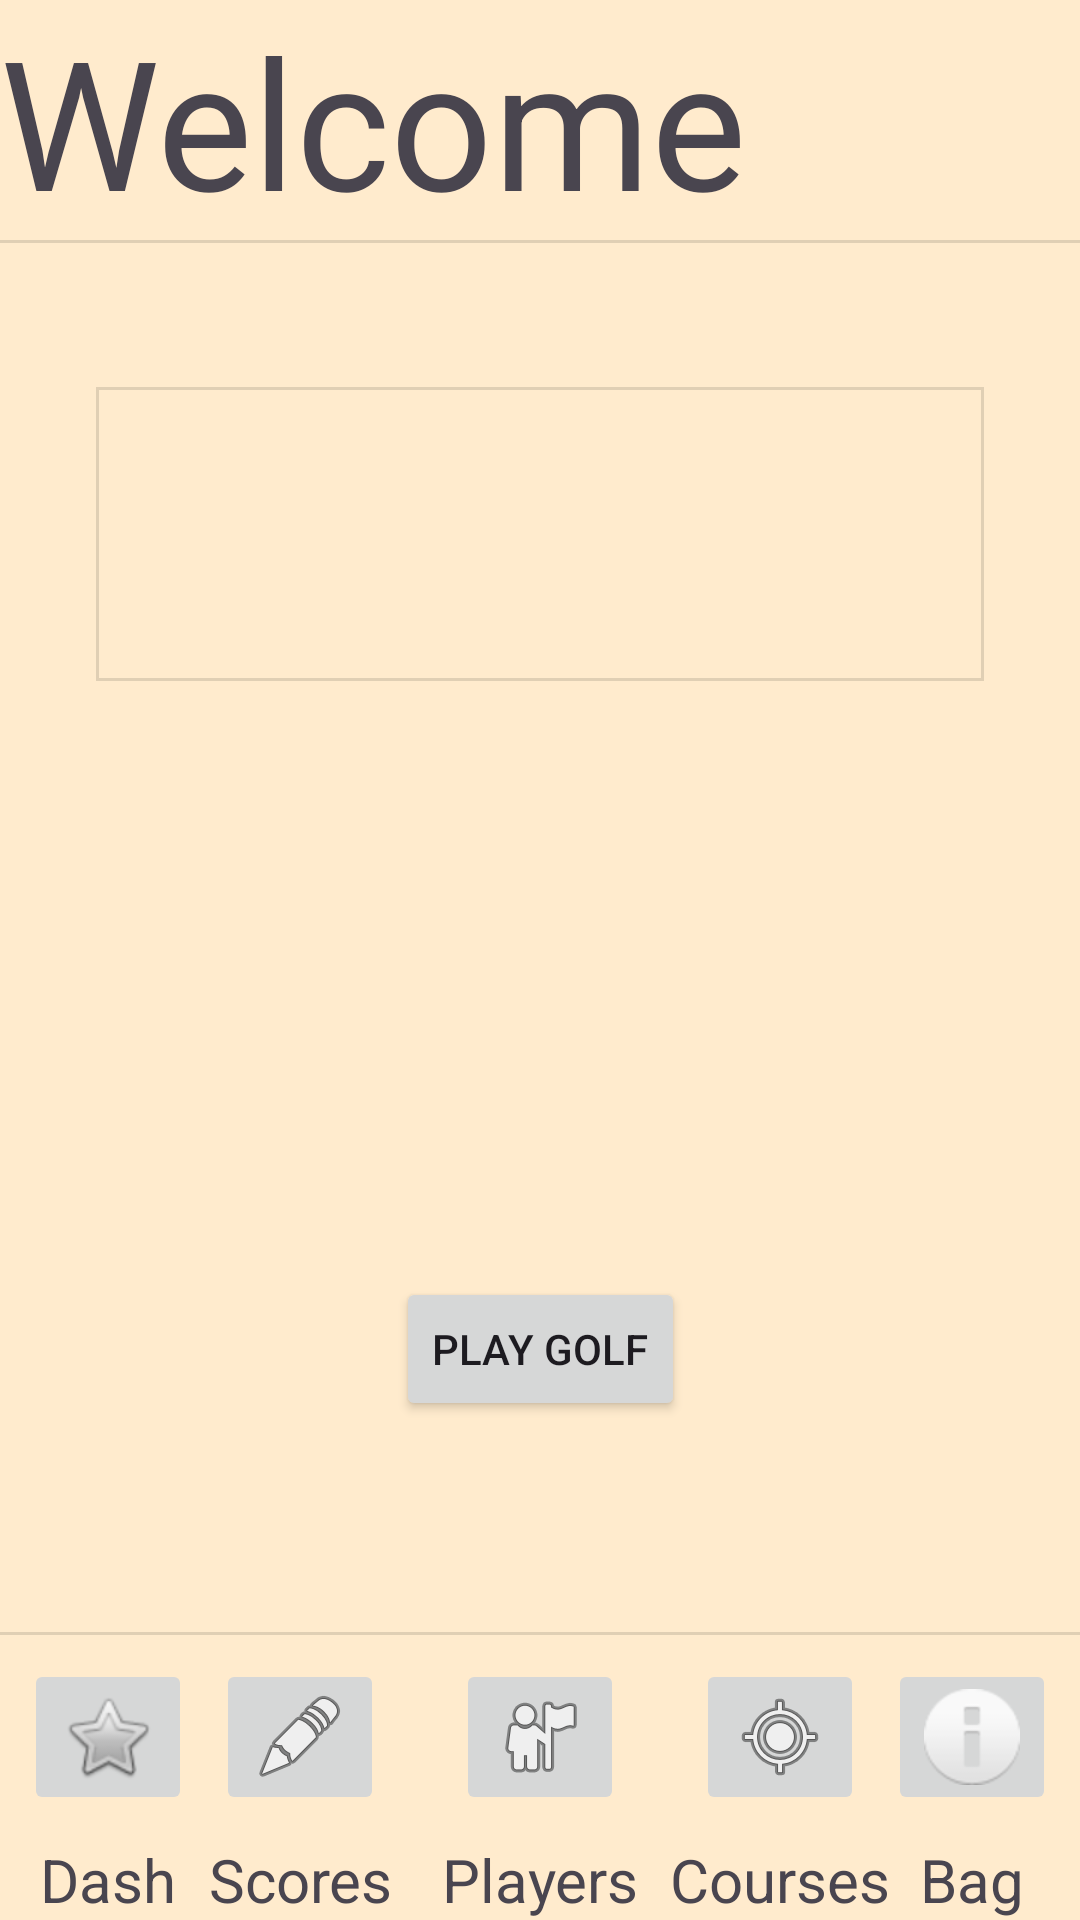

Icons on this 1080px×1920px Android screen, each with its box as box(x1, y1, x2, y2):
edit: box(228, 1677, 372, 1797)
info: box(900, 1677, 1044, 1797)
mylocation: box(708, 1677, 852, 1797)
myplaces: box(468, 1677, 612, 1797)
star: box(36, 1677, 180, 1797)
